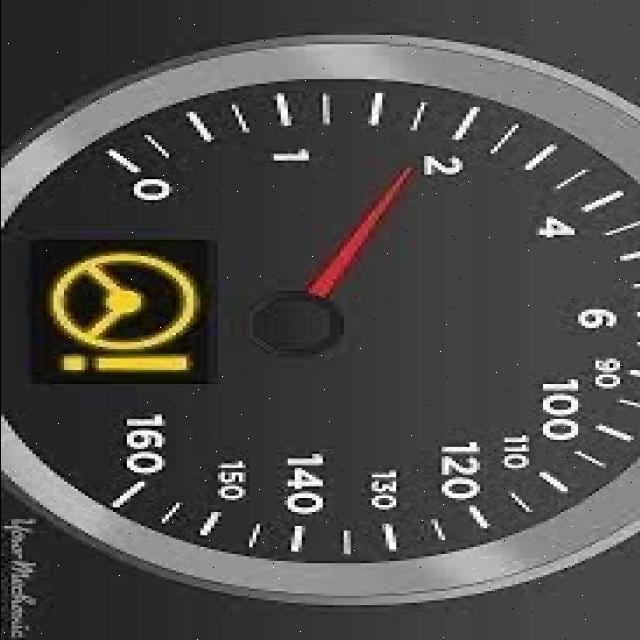Electronic Power Steering Warning: (45, 250, 201, 379)
